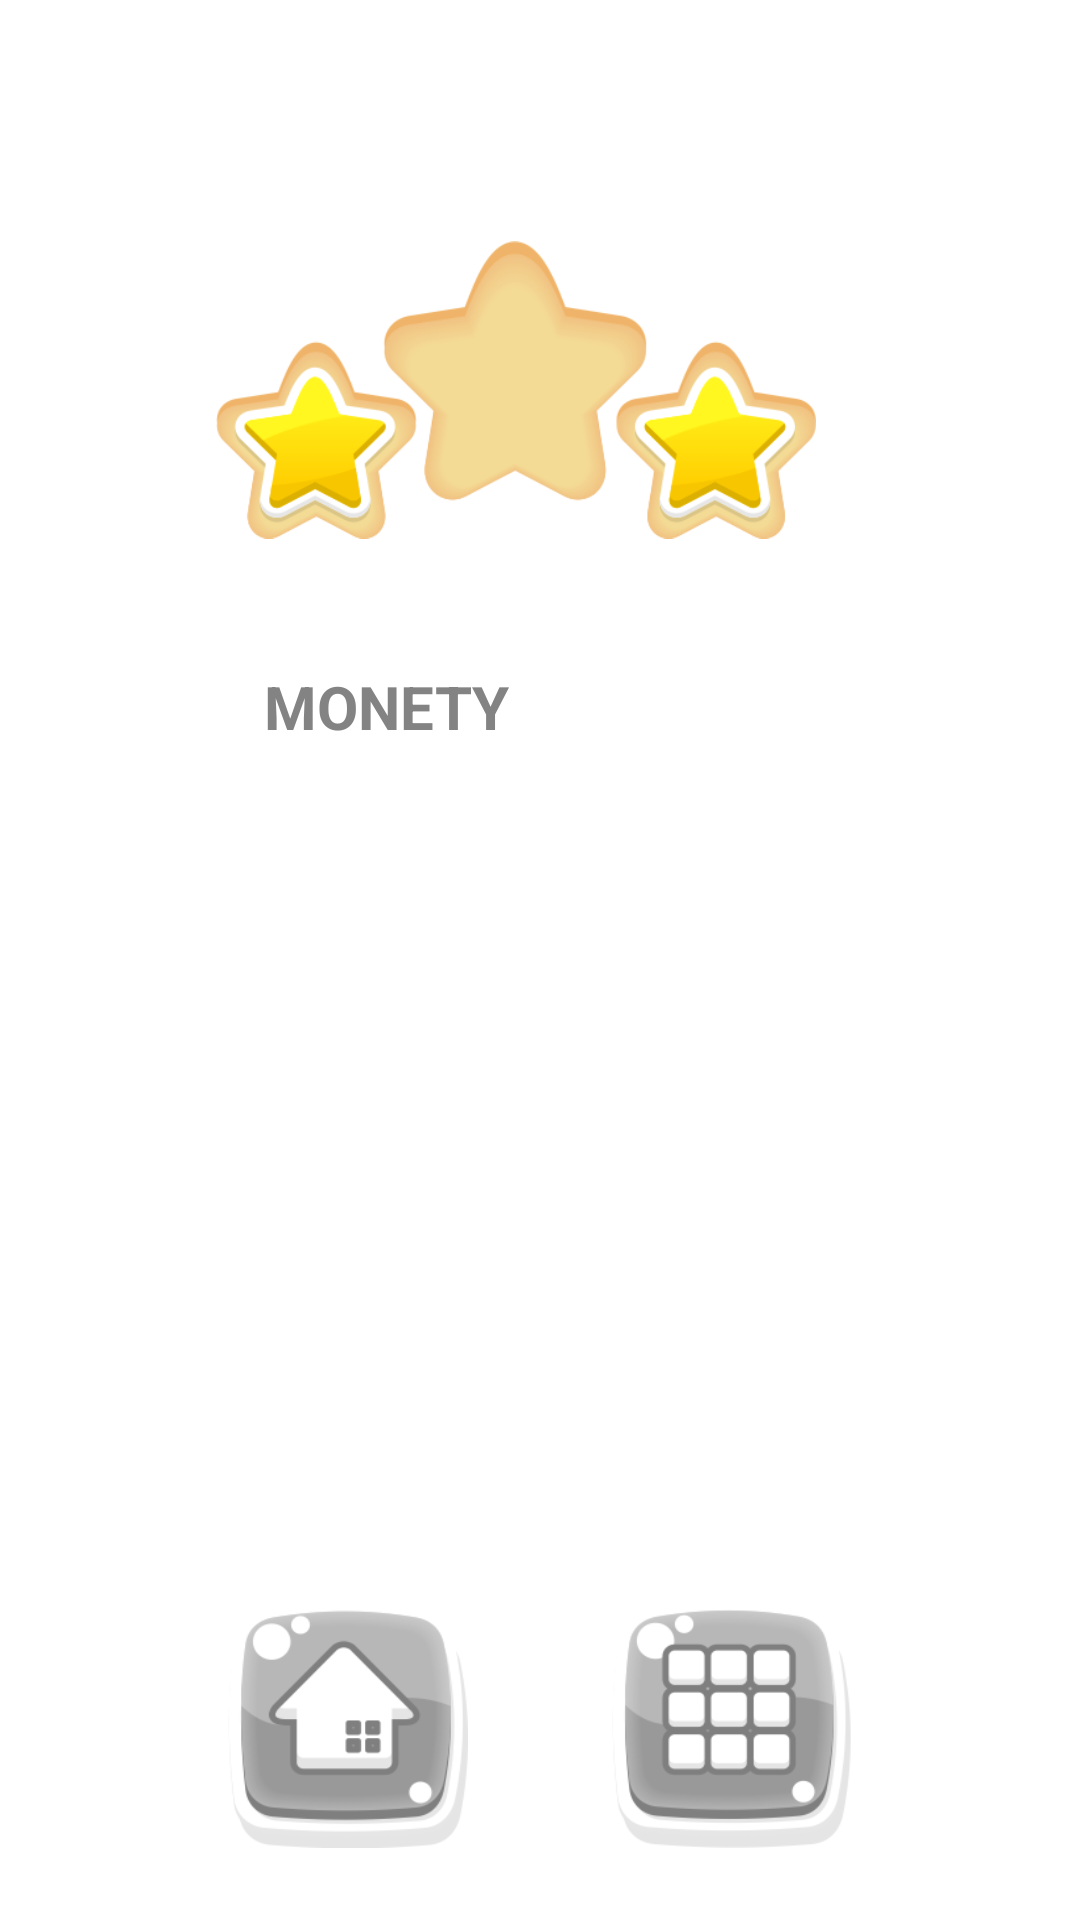

Icon bounding boxes for this 1080w x 1920h phone screenshot, format (left=x1, top=y1, right=x2, bottom=y2):
home: (left=238, top=1611, right=468, bottom=1848)
